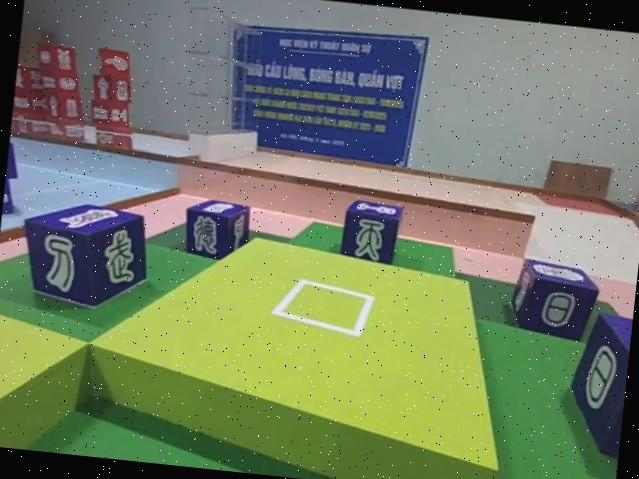R2 Fake Blue: (14, 198, 151, 316), (559, 308, 633, 466), (510, 258, 606, 345), (181, 195, 253, 262), (338, 198, 405, 267)
